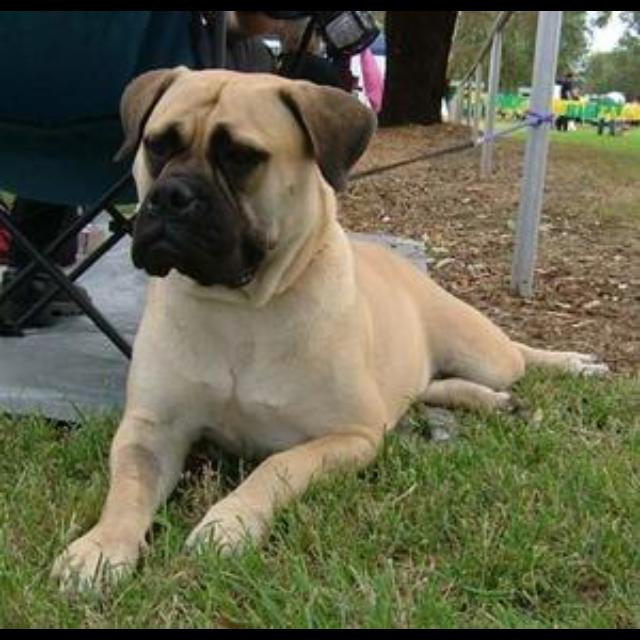bullmastiff: (49, 64, 612, 603)
